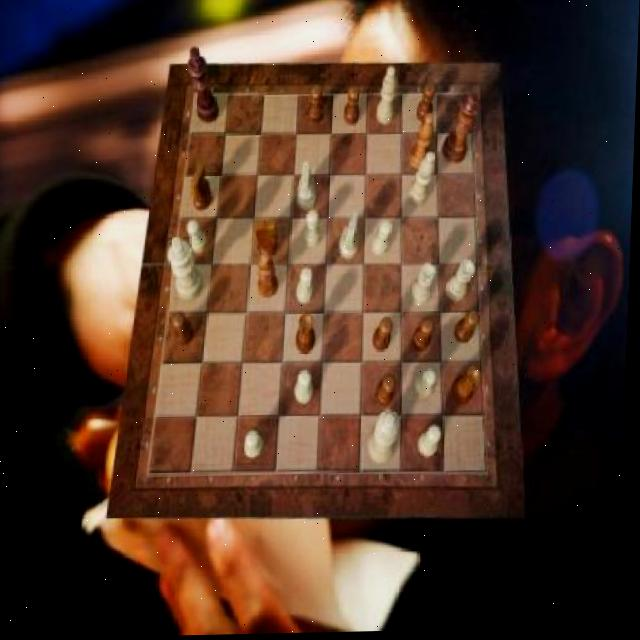bishop: (412, 114, 436, 170), (260, 252, 283, 298)
black-bishop: (186, 49, 221, 125)
black-king: (192, 165, 215, 213), (255, 221, 280, 260)
black-knight: (457, 311, 483, 346), (418, 86, 438, 125), (174, 312, 196, 347), (414, 320, 436, 354), (376, 319, 397, 354), (344, 88, 361, 128), (379, 378, 400, 410), (309, 87, 326, 125)
black-pawn: (442, 93, 482, 168)
black-queen: (454, 368, 485, 407), (298, 315, 320, 356)
black-rook: (410, 154, 437, 208), (378, 68, 398, 127)
white-bishop: (170, 236, 208, 302)
white-king: (298, 164, 320, 211), (340, 214, 361, 262)
white-knight: (422, 427, 446, 460), (374, 222, 395, 259), (188, 221, 210, 256), (298, 371, 318, 406), (417, 371, 441, 400), (307, 211, 325, 249), (298, 270, 316, 306), (248, 432, 268, 460)
white-pawn: (372, 411, 405, 467)
white-queen: (448, 261, 477, 304), (413, 266, 438, 309)
